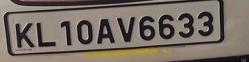0: (75, 19, 93, 45)
1: (59, 19, 75, 47)
3: (176, 12, 195, 40), (197, 10, 214, 38)
6: (138, 14, 157, 42), (158, 13, 176, 41)
A: (96, 18, 116, 44)
K: (14, 21, 36, 49)
L: (34, 21, 58, 47)
V: (114, 15, 136, 43)
